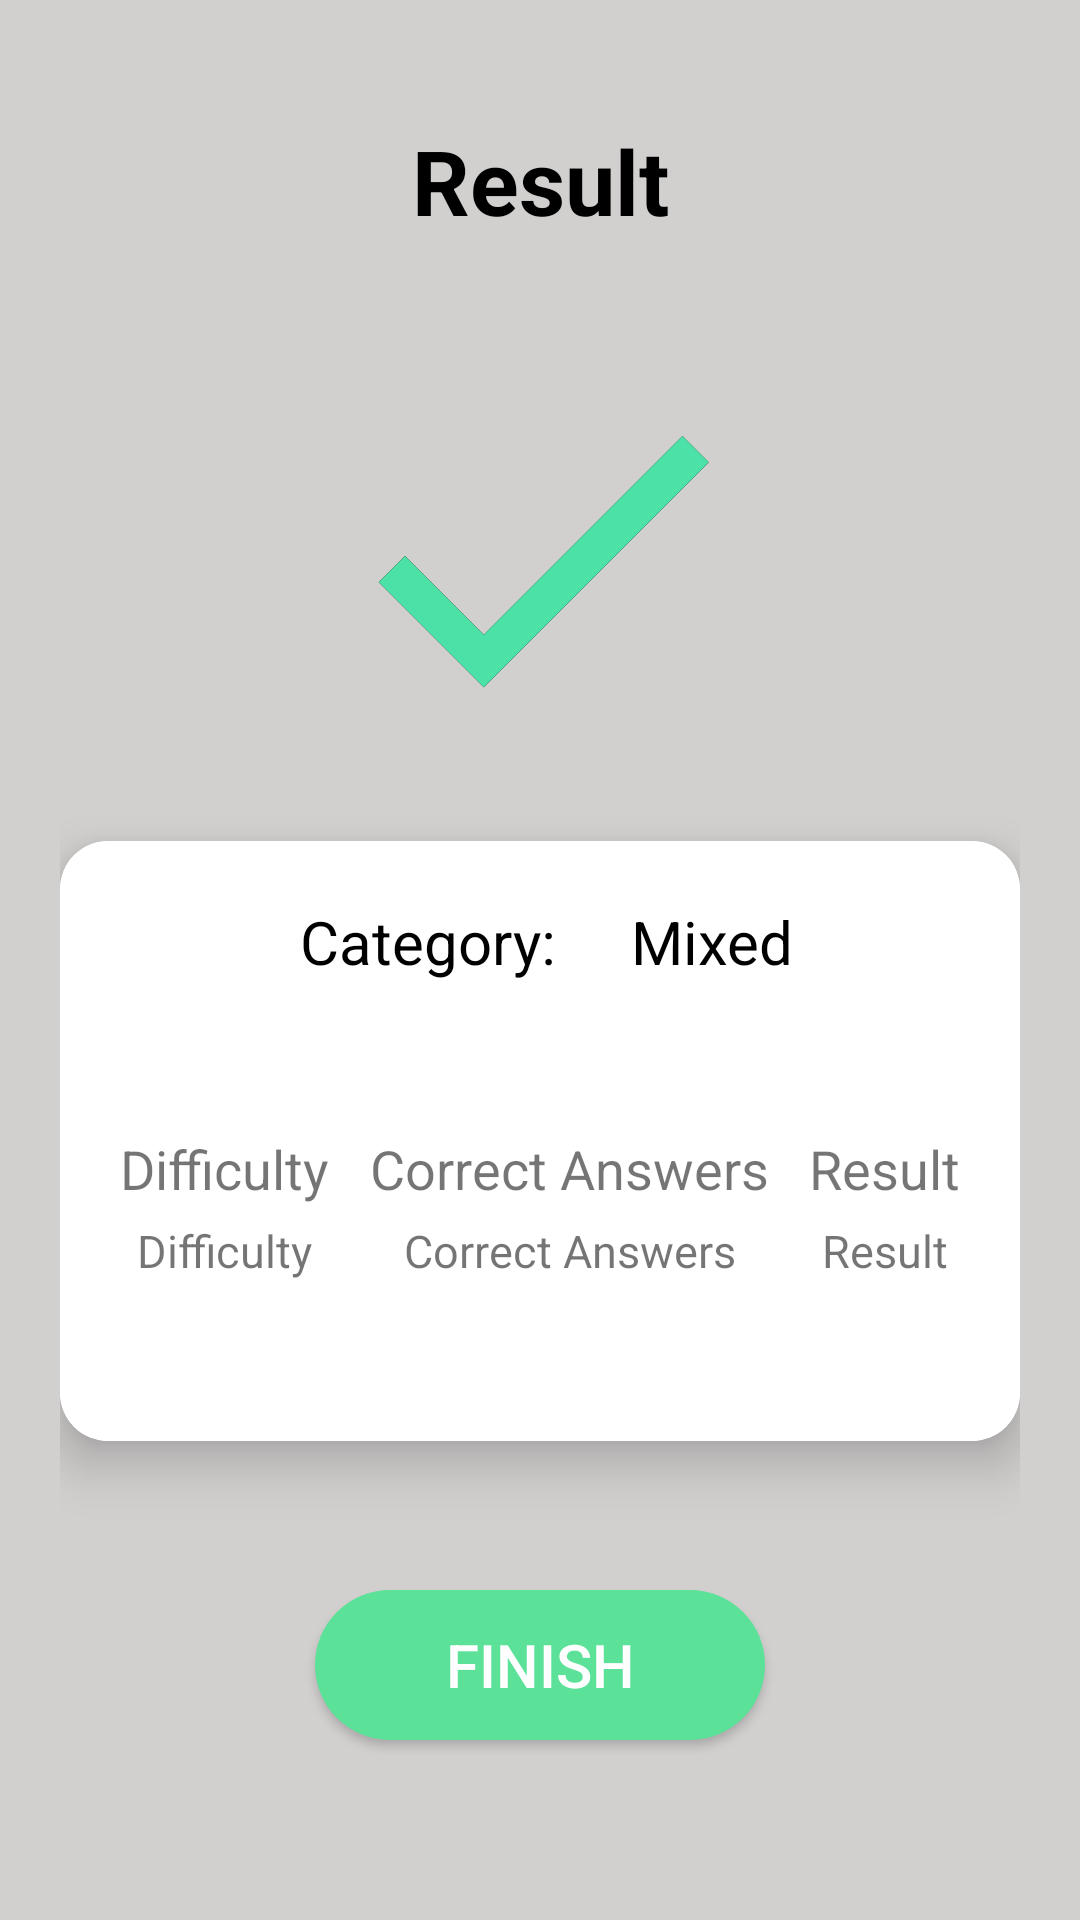

Screen size 1080px×1920px. Icon name, then its center in pixels as (x,y):
done: (544,561)
